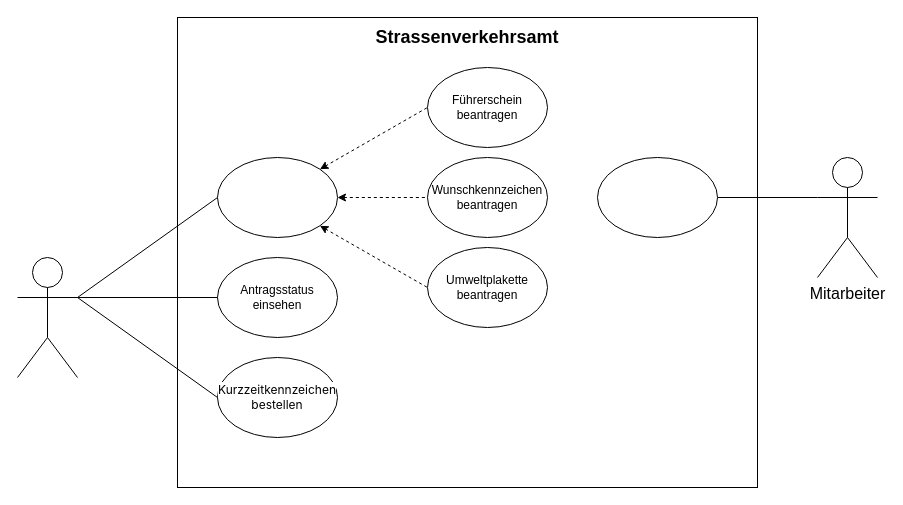
Image size: 903x505. Some labels were removed from this diagram. The box of each missing label's shape, as (x1, y1, x2, y2) in pixels:
Antrag bearbeiten: (596, 156, 718, 238)
Antrag stellen: (216, 156, 338, 238)
Bürger: (16, 256, 78, 378)
